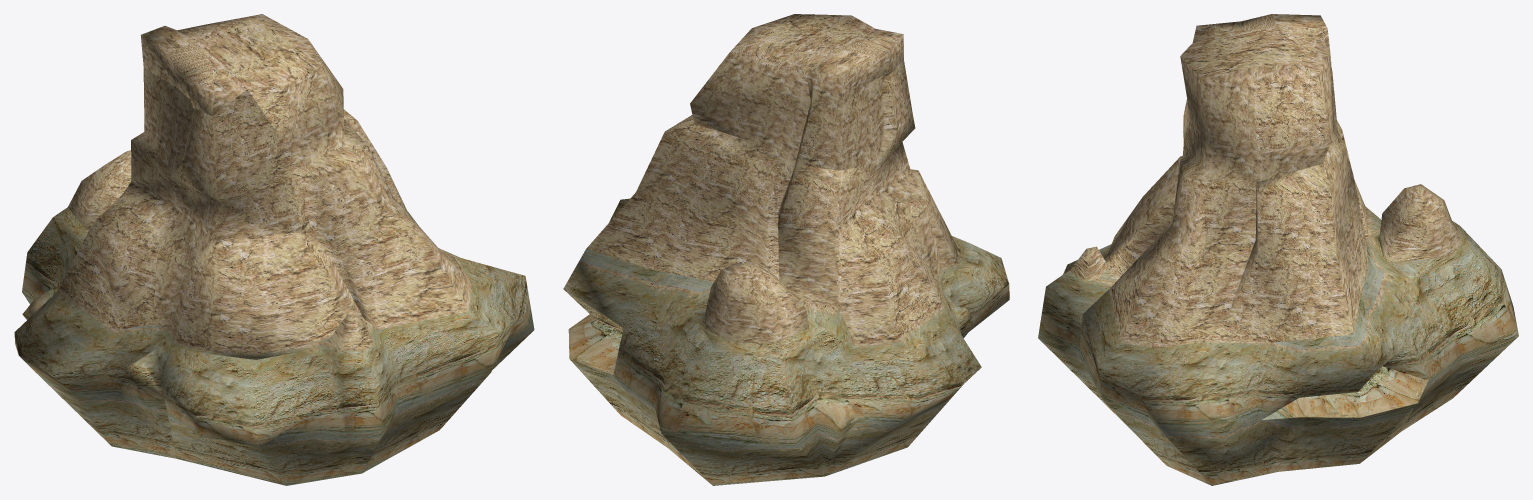
The model's file is dsrt_endr_column_l2.fbx.
3 renders of one model, left to right at view 1: azimuth 30°, elevation 25°; view 2: azimuth 150°, elevation 25°; view 3: azimuth 270°, elevation 25°, orthographic. The views are drawn at different scales.
Visible parts, largest first — view 1: mesh_node; view 2: mesh_node; view 3: mesh_node.
Boxes of the visible parts, <box> form: mesh_node: <box>14,14,534,485</box>; mesh_node: <box>563,14,1009,485</box>; mesh_node: <box>1038,14,1518,485</box>.
Size of the model in its own units: 26.69 by 23.01 by 28.07.
2 materials, 2 textured.
